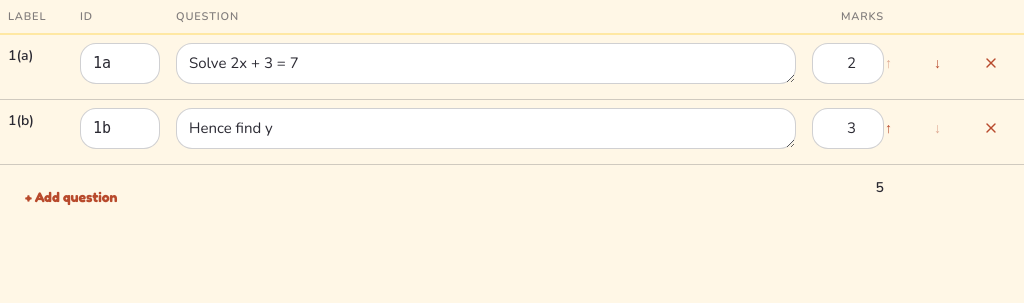
QuestionsTable › shows labels and the total, and adds, moves and removes questions
Expected: the text "1(a)" is shown, [0,34,72,99]
Expected: the cell named "Total marks" reads "5", [876,178,884,197]
Step 1. Click the button "+ Add question" → (71, 197), box [8,177,134,217]
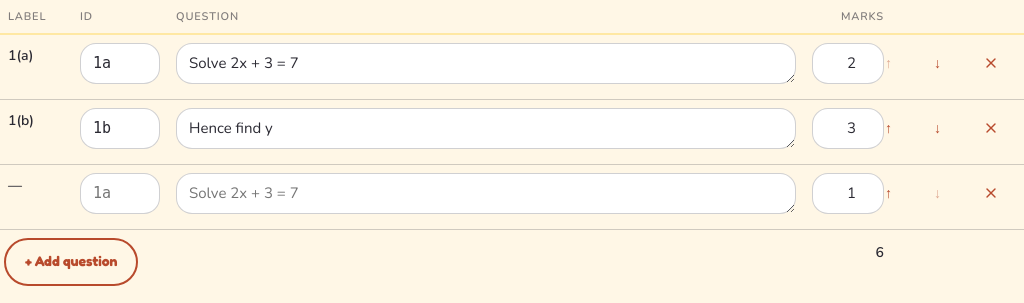
Now the number of fields named "Question 1 id" is 3
Step 2. Type "2" into the field named "Question 3 id" → (120, 194), box [80,173,160,214]
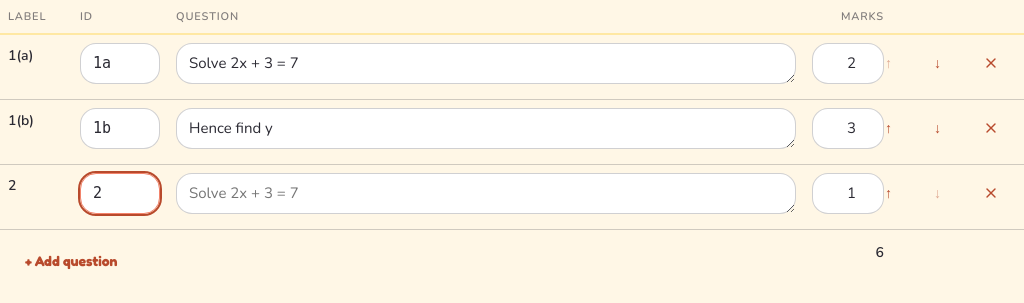
Now the cell named "Total marks" reads "6", box [876,243,884,262]
Now the text "2" is shown, box [0,164,72,229]
Step 3. Click the button named "Move question 3 up" → (888, 193), box [868,173,909,213]
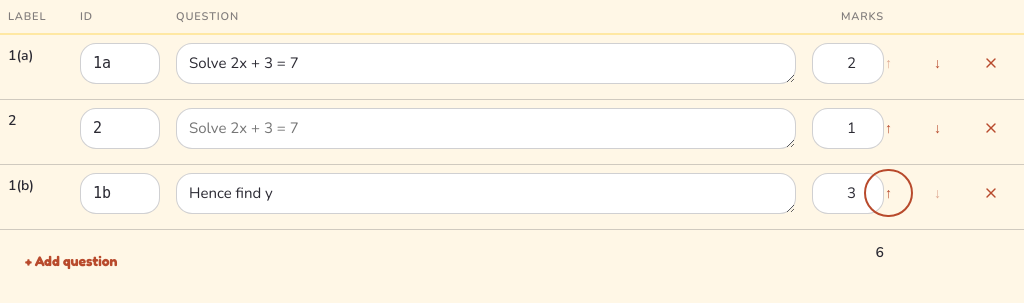
Now the field named "Question 2 id" holds "2", box [80,108,160,149]
Step 4. Click the button named "Remove question 1" → (991, 63), box [966,43,1016,83]
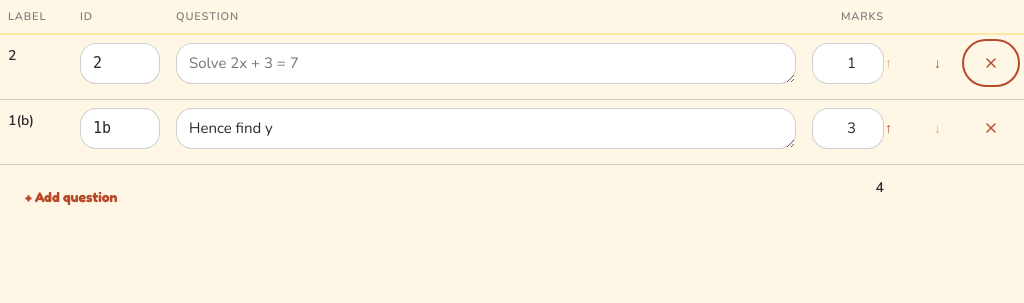
Now the number of fields named "Question 1 id" is 2, box [80,43,160,84]; [80,108,160,149]
Now the field named "Question 1 id" holds "2", box [80,43,160,84]
